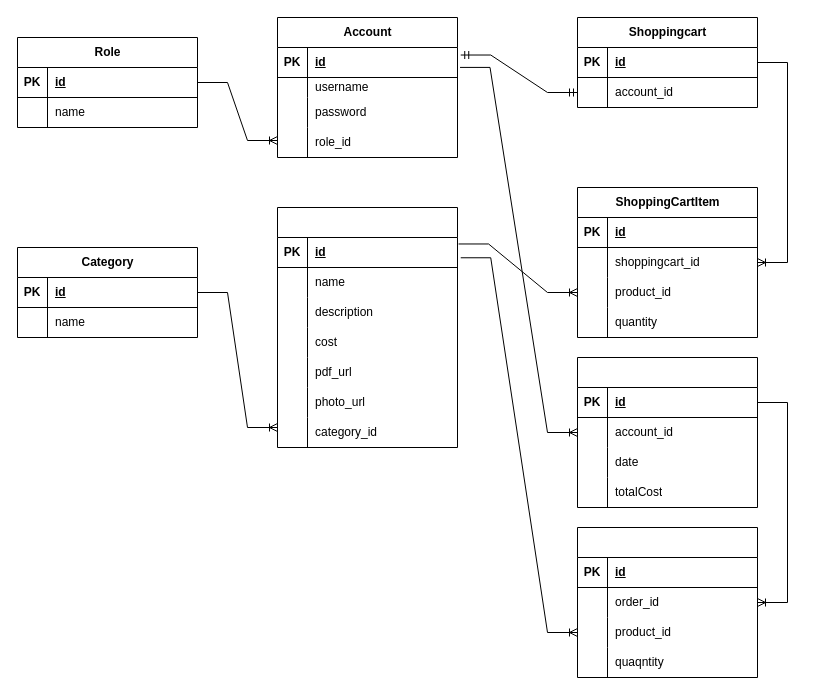
Some shapes in this 813 by 695 pixel diagram are drawn without their labels. The box of each missing label's shape, as (x1, y1, x2, y2) in pixels:
Order: (576, 356, 758, 508)
OrderItem: (576, 526, 758, 678)
Product: (276, 206, 458, 448)
